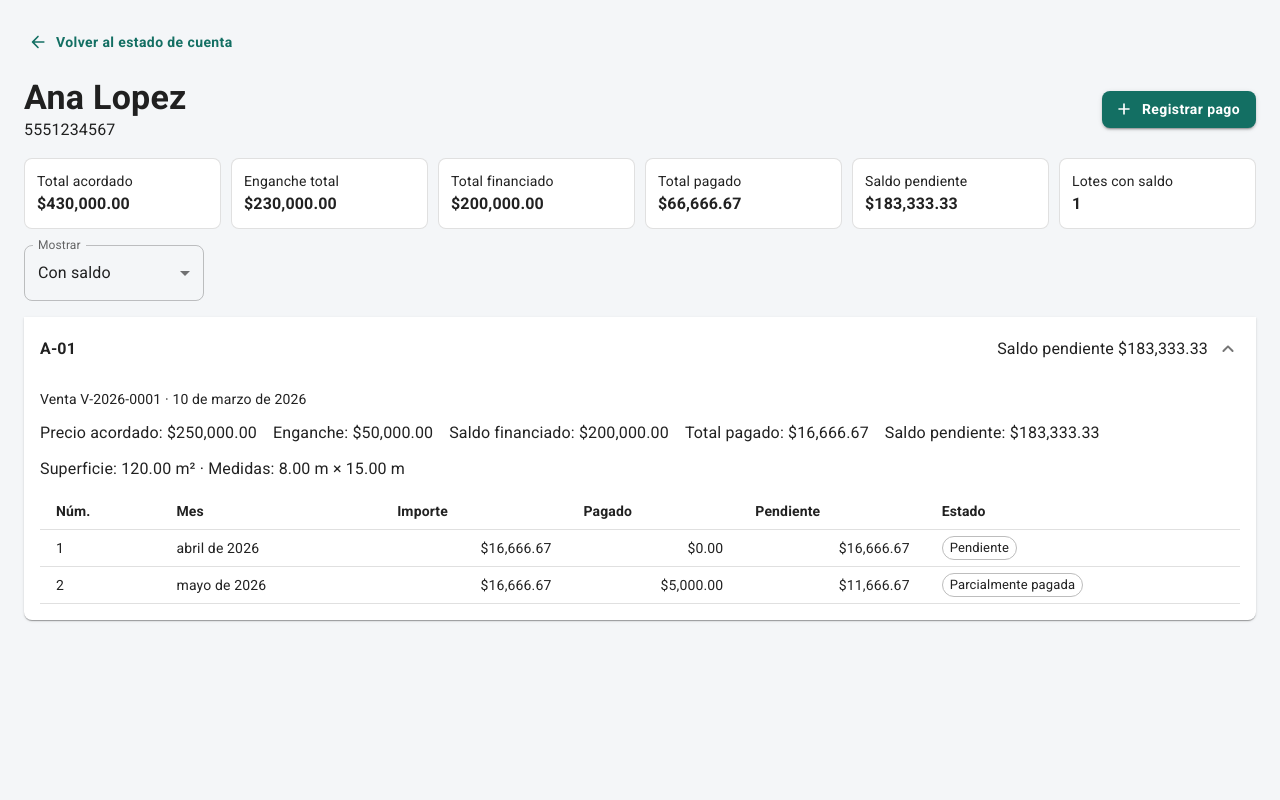
Test: CustomerStatementPage › shows the API error when payment registration fails
The width and height of the screenshot is (1280, 800).
Expected: the heading "Ana Lopez" is shown, [24,76,187,118]
Click the button "Registrar pago" at (1179, 109), box [1102,91,1256,128]
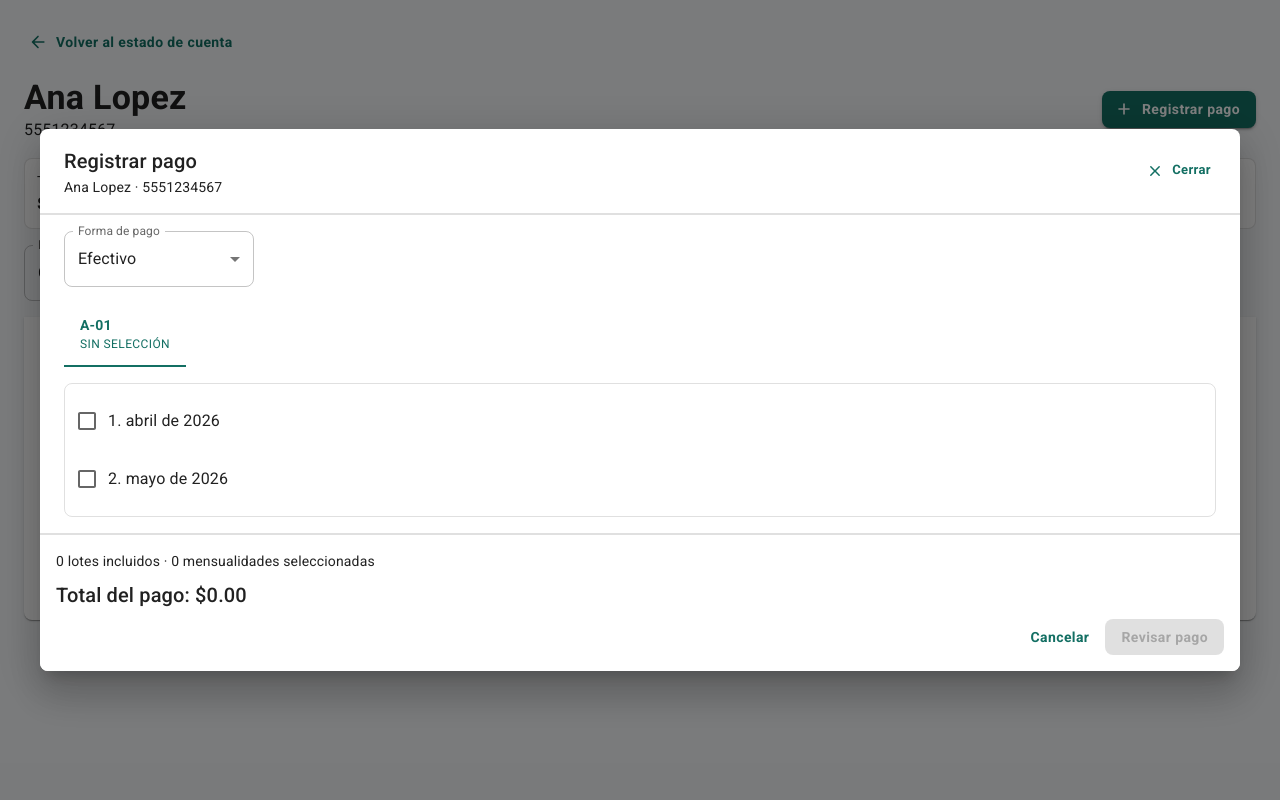
Click the checkbox labelled "1. abril de 2026" at (147, 421), box [75,409,220,433]
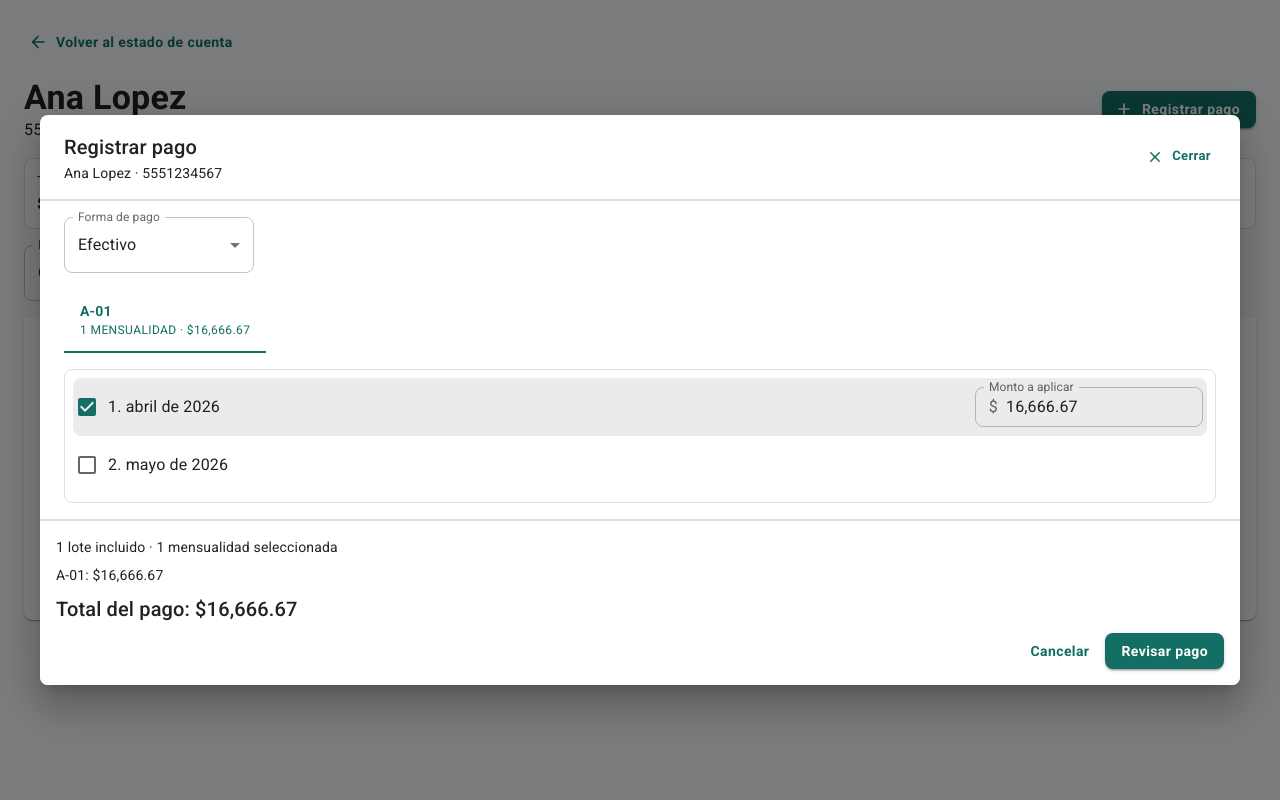
Expected: the button "Revisar pago" is shown
Click the button "Revisar pago" at (1165, 651), box [1105,633,1224,669]
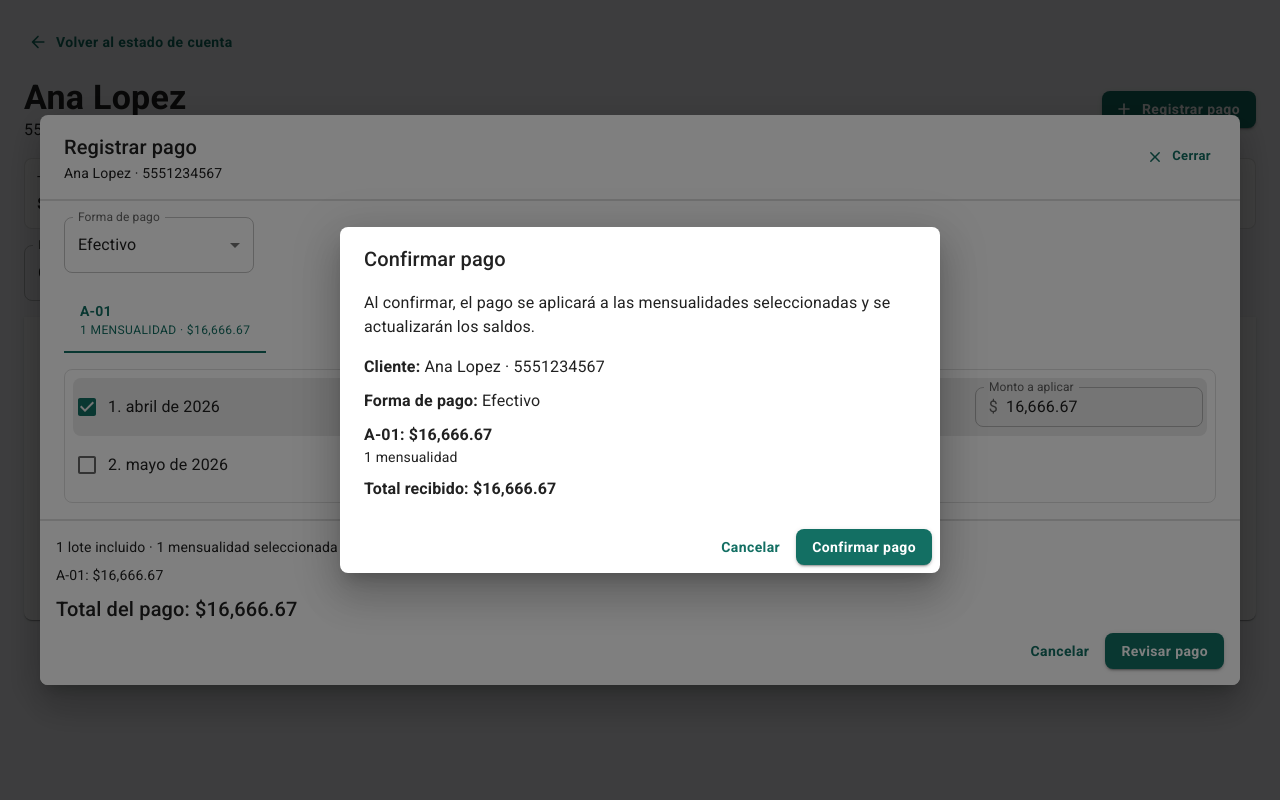
Expected: the button "Confirmar pago" is enabled
Expected: the button "Confirmar pago" is shown
Click the button "Confirmar pago" at (864, 547), box [796,529,932,565]
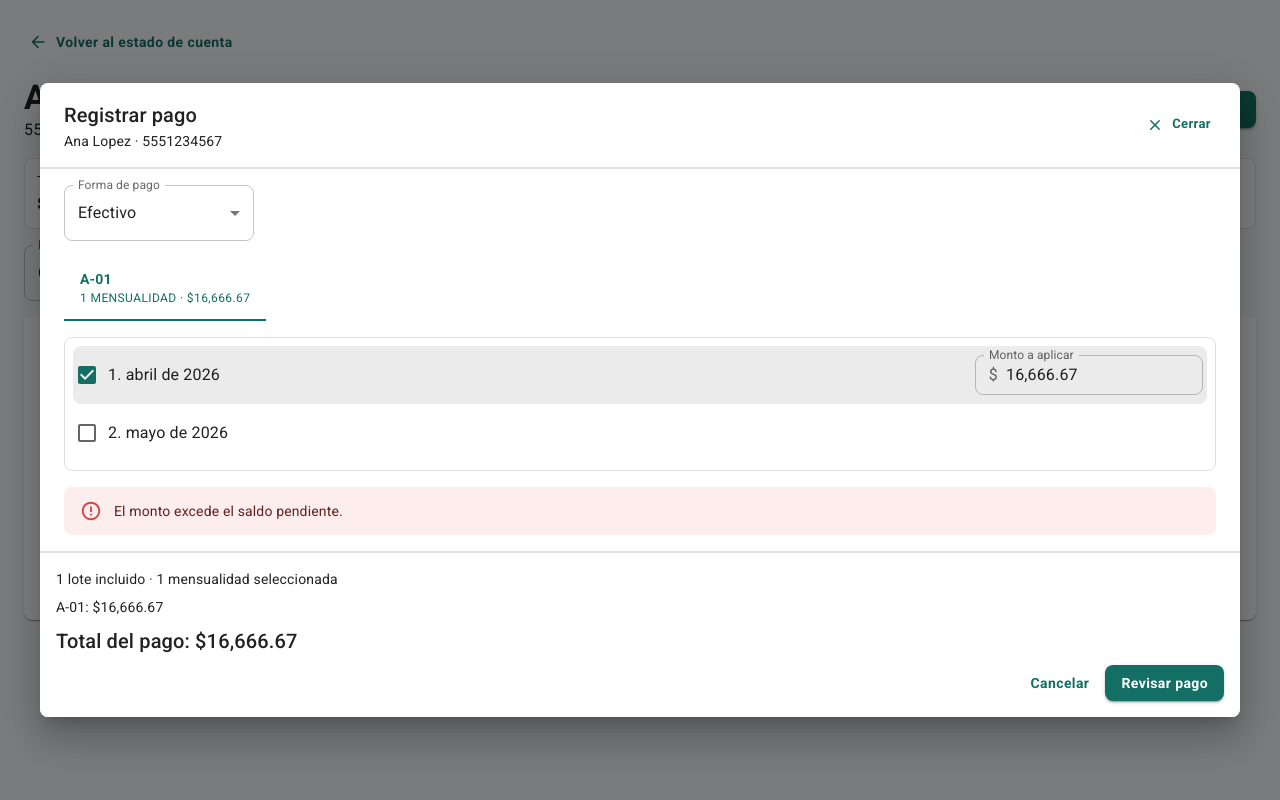
Expected: the text "El monto excede el saldo pendiente." is shown, [114,503,343,519]
